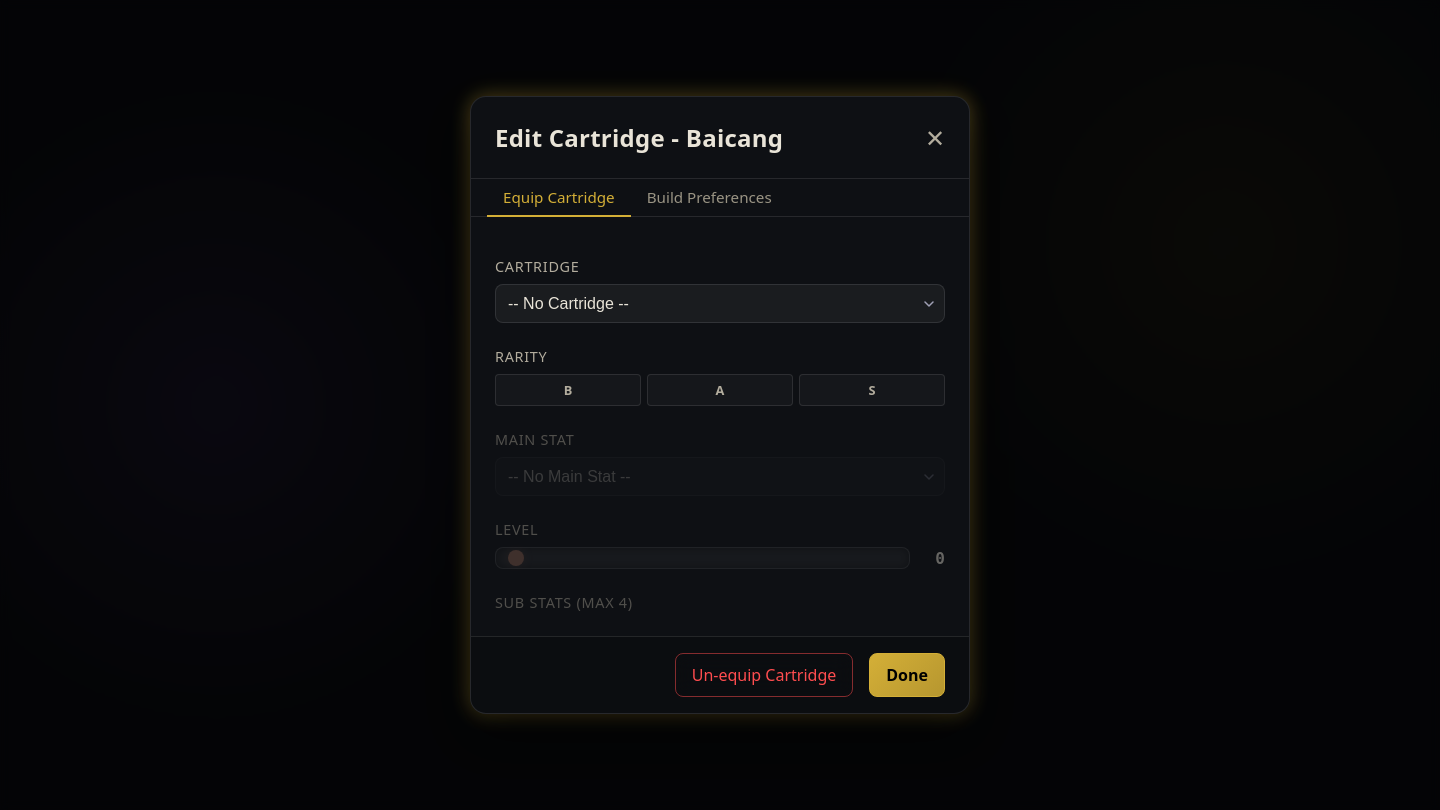
Test: CartridgeEditorModal › switches to preferences tab when clicked
Click the button "Build Preferences" at (709, 198), box [631,179,788,217]
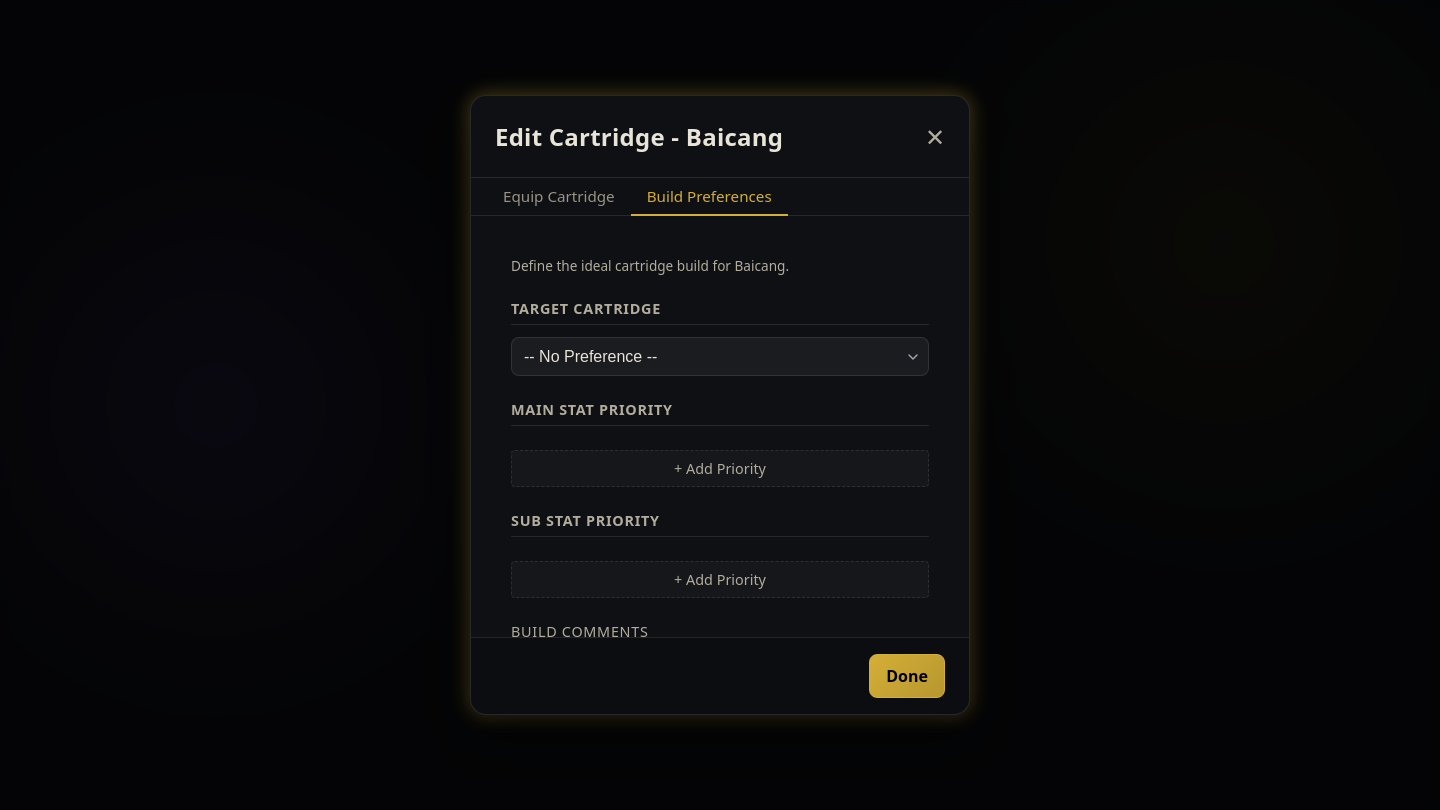
Expected: the heading "Main Stat Priority" is shown, [511,400,929,426]
Expected: the heading "Sub Stat Priority" is shown, [511,511,929,537]
